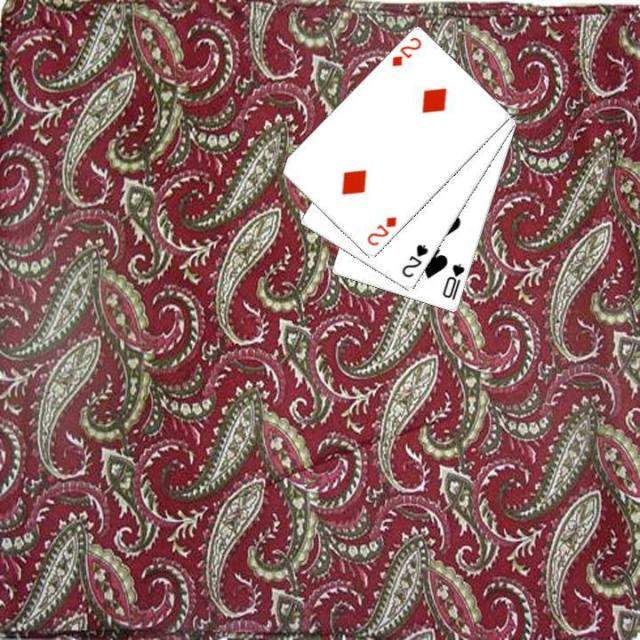10S: (439, 260, 467, 302)
2D: (363, 213, 398, 248), (388, 34, 423, 68)
2S: (398, 240, 430, 280)
